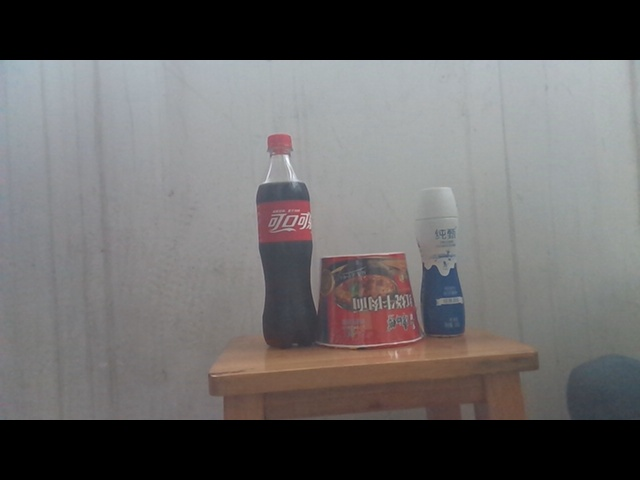cola: (255, 134, 321, 349)
kangshifu: (317, 251, 425, 347)
yogurt: (414, 186, 469, 339)
